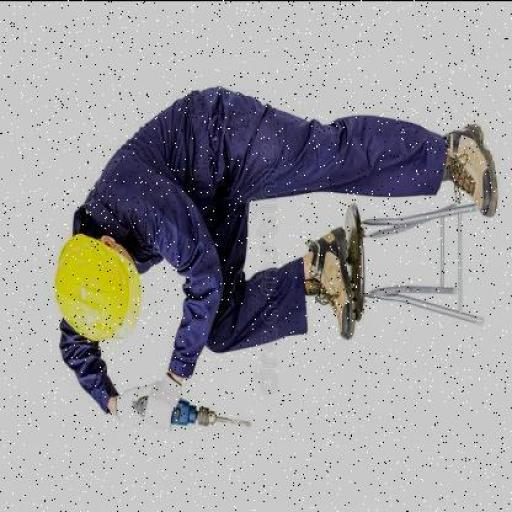person: (57, 86, 496, 412)
safety_shoe: (304, 220, 358, 346), (442, 112, 501, 207)
